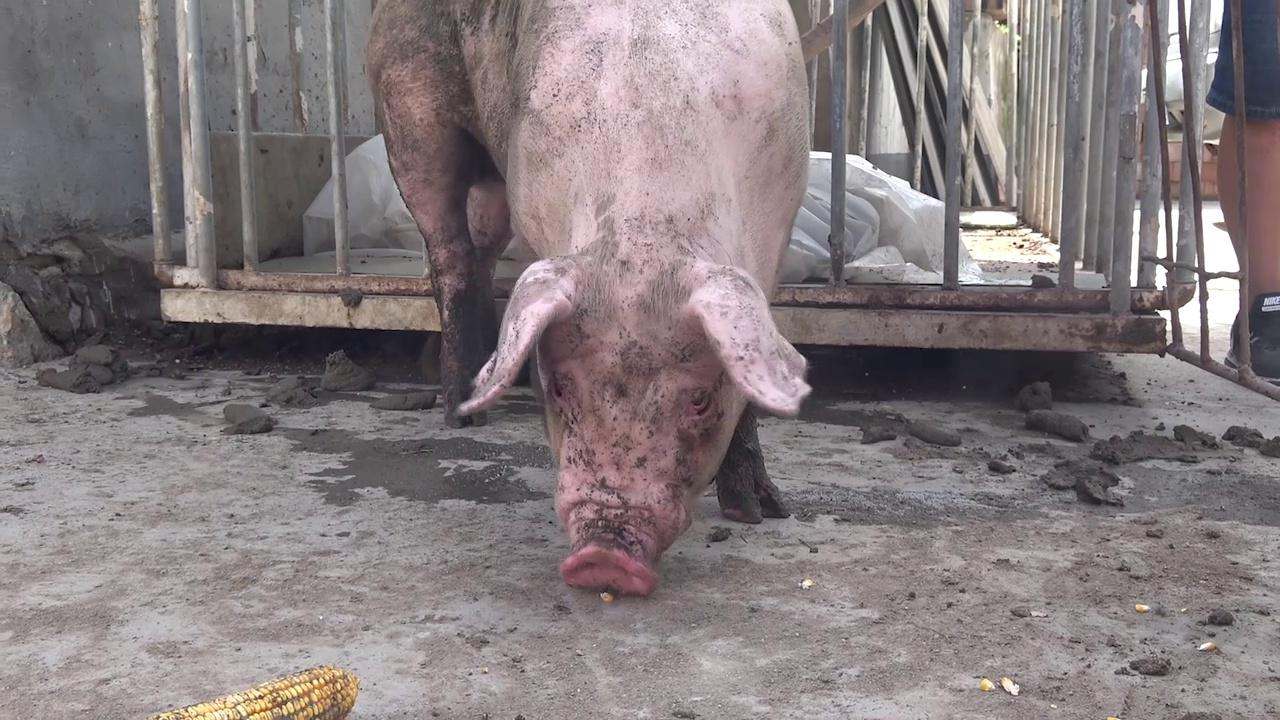Face: (439, 247, 821, 609)
